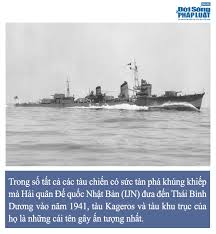tau_muctieu: (15, 70, 209, 115)
